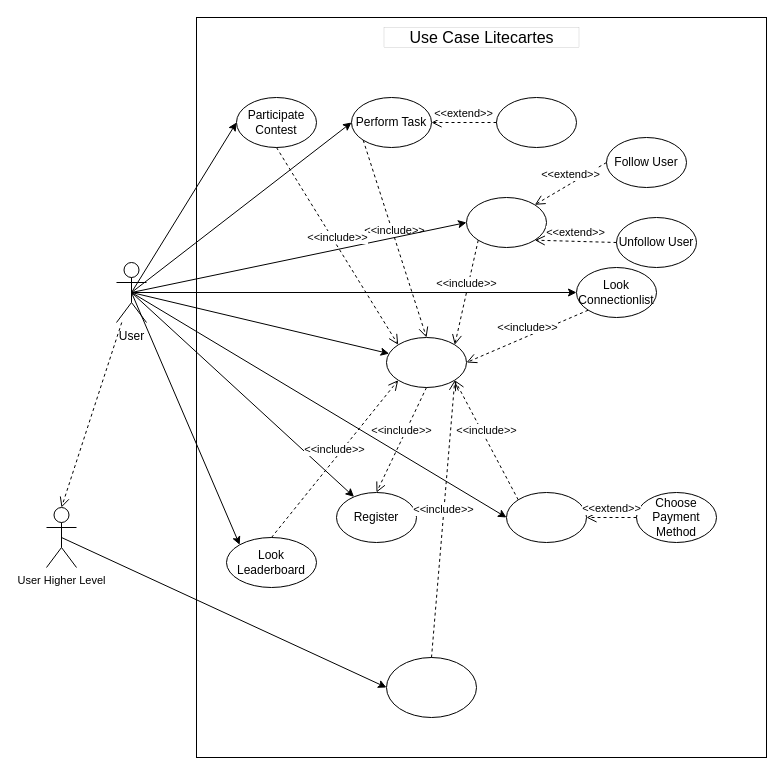
This 784x775 diagram has some shape labels left out. The centre of each missing label's shape, as x and y in pixels:
Answer Question: pixel 536 122
Login: pixel 426 362
Make Customized Question: pixel 431 687
Manage Connection: pixel 506 222
Payment Subscription: pixel 546 517
